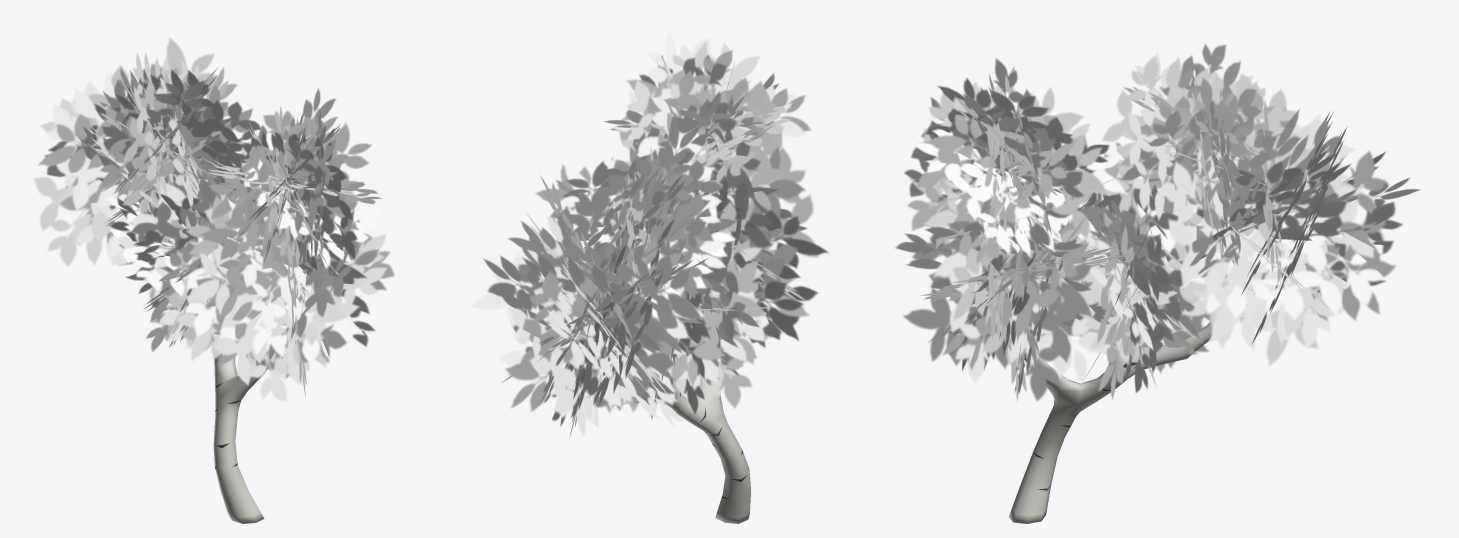
File: tree_stylized_3.glb
The picture shows the model from 3 angles, left to right: view 1: azimuth 30°, elevation 25°; view 2: azimuth 150°, elevation 25°; view 3: azimuth 270°, elevation 25°; orthographic projection. The views are drawn at different scales.
Parts seen in each view (by area): view 1: Canopy, BirchTree_Dead_1; view 2: Canopy, BirchTree_Dead_1; view 3: Canopy, BirchTree_Dead_1.
Part boxes in pixels (x1=…): Canopy: x1=33, y1=37, x2=394, y2=402; BirchTree_Dead_1: x1=138, y1=146, x2=289, y2=523; Canopy: x1=470, y1=31, x2=828, y2=438; BirchTree_Dead_1: x1=597, y1=165, x2=750, y2=523; Canopy: x1=895, y1=44, x2=1420, y2=401; BirchTree_Dead_1: x1=1006, y1=178, x2=1271, y2=523.
Size of the model in its own units: 2 by 3.17 by 3.35.
3 materials, 1 textured.
